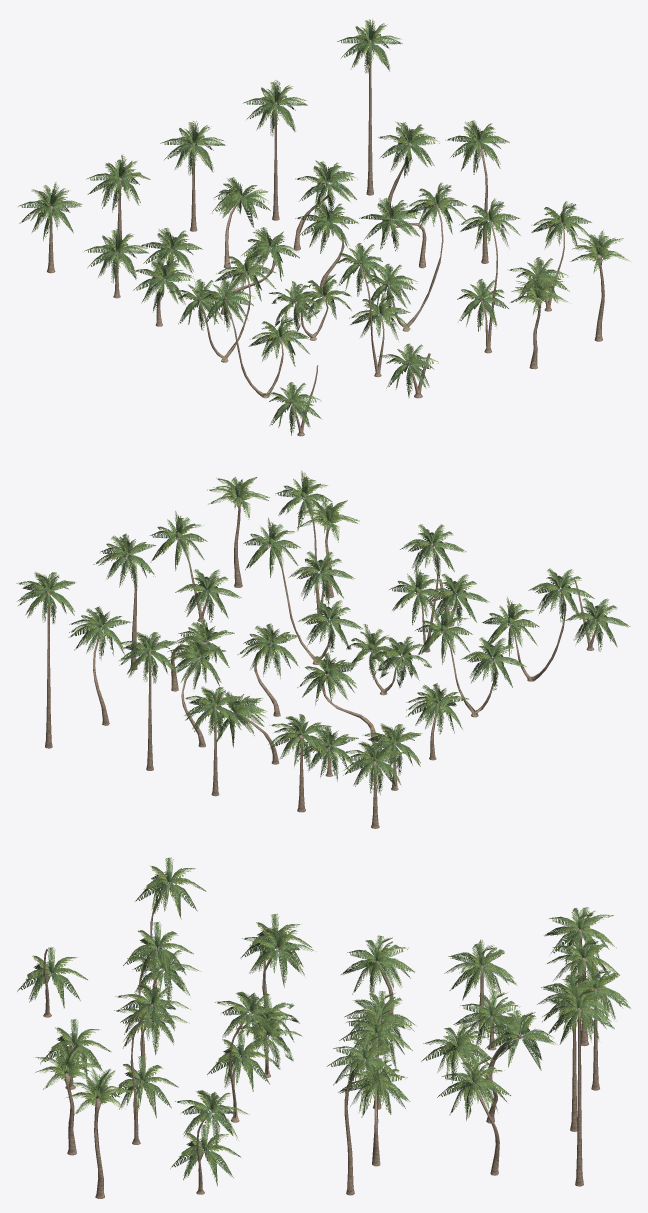
The model's file is palm.glb.
The picture shows the model from 3 angles, top to bottom: view 1: azimuth 30°, elevation 25°; view 2: azimuth 150°, elevation 25°; view 3: azimuth 270°, elevation 25°; orthographic projection. The views are drawn at different scales.
Visible parts, largest first — view 1: M_Palm_P2_19, M_Palm_P2_21, M_Palm_P2_20, M_Palm_P2_18, M_Palm_P2_16, M_Palm_P2_22, M_Palm_P2_17, M_Palm_P2_5, M_Palm_P2_4, M_Palm_P2_15, M_Palm_P2_1, M_Palm_P2_3 (+14 smaller); view 2: M_Palm_P2_18, M_Palm_P2_19, M_Palm_P2_16, M_Palm_P2_21, M_Palm_P2_20, M_Palm_P2_22, M_Palm_P2_17, M_Palm_P2_5, M_Palm_P2_4, M_Palm_P2_1, M_Palm_P2_10, M_Palm_P2_2 (+14 smaller); view 3: M_Palm_P2_21, M_Palm_P2_18, M_Palm_P2_22, M_Palm_P2_20, M_Palm_P2_19, M_Palm_P2_5, M_Palm_P2_15, M_Palm_P2_16, M_Palm_P2_10, M_Palm_P2_11, M_Palm_P2_8, M_Palm_P2_14 (+14 smaller).
Part boxes in pixels (left/top/right/bottom): M_Palm_P2_19: left=194, top=279, right=310, bottom=398; M_Palm_P2_21: left=457, top=198, right=520, bottom=353; M_Palm_P2_20: left=336, top=243, right=410, bottom=377; M_Palm_P2_18: left=359, top=182, right=467, bottom=331; M_Palm_P2_16: left=168, top=250, right=275, bottom=362; M_Palm_P2_22: left=508, top=201, right=591, bottom=311; M_Palm_P2_17: left=269, top=274, right=351, bottom=340; M_Palm_P2_5: left=337, top=19, right=402, bottom=195; M_Palm_P2_4: left=243, top=80, right=307, bottom=220; M_Palm_P2_15: left=445, top=120, right=509, bottom=263; M_Palm_P2_1: left=18, top=182, right=82, bottom=273; M_Palm_P2_3: left=160, top=121, right=225, bottom=231; M_Palm_P2_18: left=243, top=517, right=363, bottom=664; M_Palm_P2_19: left=482, top=568, right=594, bottom=681; M_Palm_P2_16: left=415, top=604, right=526, bottom=717; M_Palm_P2_21: left=275, top=470, right=355, bottom=623; M_Palm_P2_20: left=389, top=524, right=466, bottom=652; M_Palm_P2_22: left=150, top=511, right=241, bottom=622; M_Palm_P2_17: left=346, top=624, right=431, bottom=695; M_Palm_P2_5: left=16, top=572, right=76, bottom=748; M_Palm_P2_4: left=118, top=631, right=176, bottom=770; M_Palm_P2_1: left=343, top=740, right=405, bottom=828; M_Palm_P2_10: left=68, top=606, right=130, bottom=725; M_Palm_P2_2: left=268, top=714, right=331, bottom=812; M_Palm_P2_21: left=110, top=983, right=190, bottom=1144; M_Palm_P2_18: left=207, top=991, right=289, bottom=1122; M_Palm_P2_22: left=170, top=1090, right=249, bottom=1194; M_Palm_P2_20: left=114, top=921, right=193, bottom=1082; M_Palm_P2_19: left=127, top=857, right=206, bottom=1005; M_Palm_P2_5: left=542, top=983, right=614, bottom=1186; M_Palm_P2_15: left=327, top=1033, right=399, bottom=1195; M_Palm_P2_16: left=240, top=913, right=316, bottom=1018; M_Palm_P2_10: left=437, top=1057, right=510, bottom=1175; M_Palm_P2_11: left=341, top=935, right=414, bottom=1014; M_Palm_P2_8: left=484, top=1010, right=557, bottom=1081; M_Palm_P2_14: left=338, top=1057, right=410, bottom=1166.
Bounding box in the file's own units: 110 × 43.42 × 123.
Materials: 4 (2 with a texture image).
